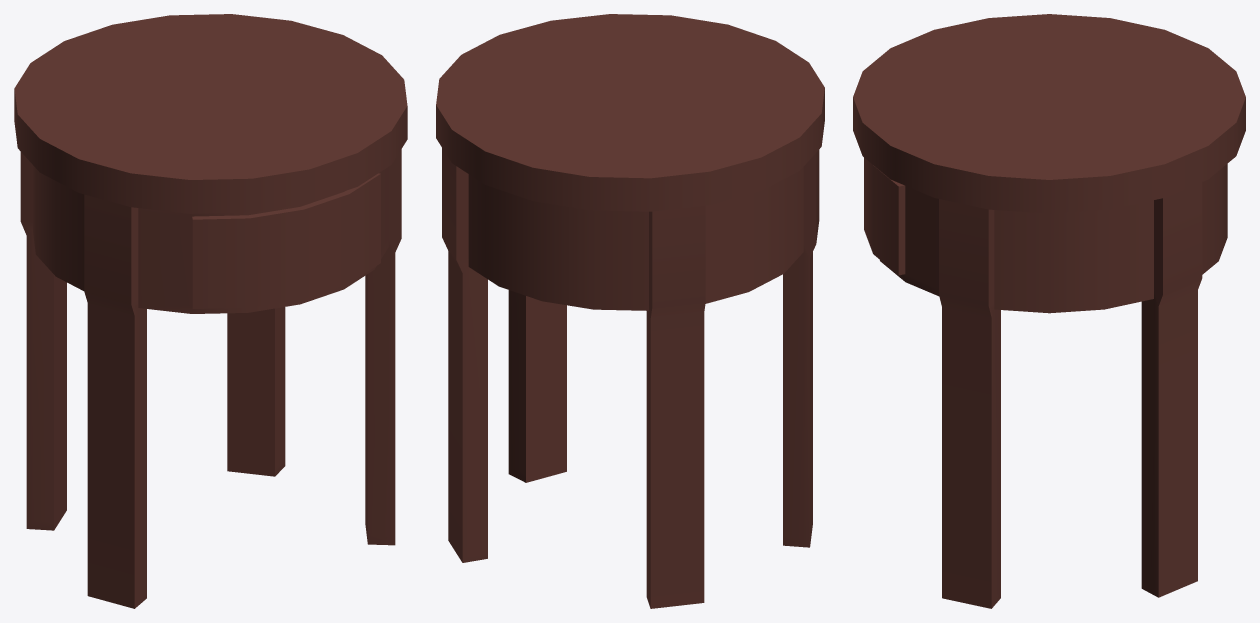
Rendered from nightstand2.fbx.
3 views of the same model, side by side, from view 1: azimuth 30°, elevation 25°; view 2: azimuth 150°, elevation 25°; view 3: azimuth 270°, elevation 25° (orthographic).
Visible parts, largest first — view 1: pCylinder1; view 2: pCylinder1; view 3: pCylinder1.
Boxes of the visible parts, box(x1,y1,x2,y2) form: pCylinder1: box(14, 14, 407, 608); pCylinder1: box(436, 14, 824, 608); pCylinder1: box(853, 14, 1245, 608).
Size of the model in its own units: 3.19 by 3.93 by 3.19.
